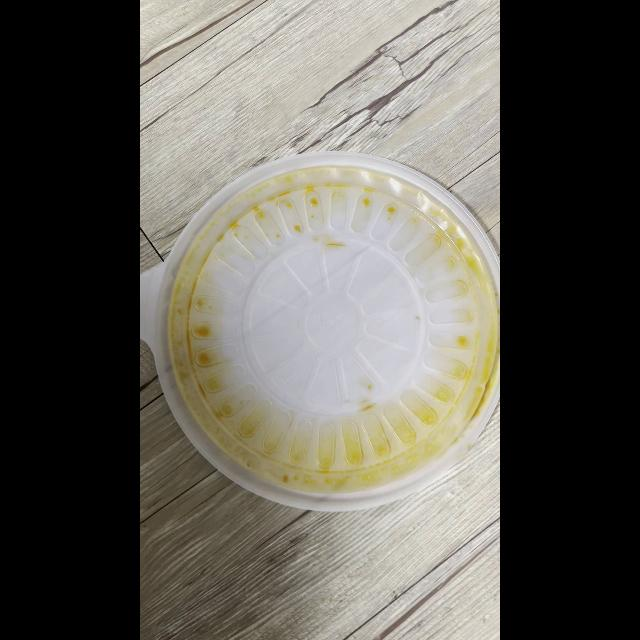dirty: (164, 153, 496, 492)
